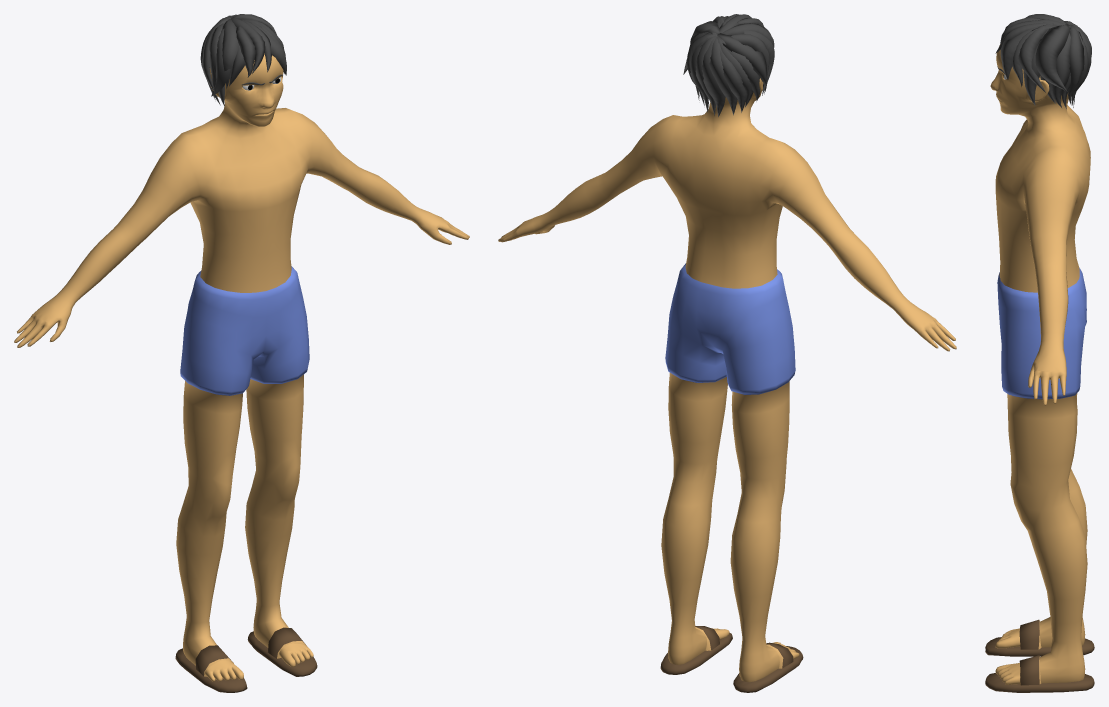
The model's file is Protagonist_Model.fbx.
The picture shows the model from 3 angles, left to right: view 1: azimuth 30°, elevation 25°; view 2: azimuth 150°, elevation 25°; view 3: azimuth 270°, elevation 25°; orthographic projection.
Parts seen in each view (by area): view 1: Protagonist, Hair; view 2: Protagonist, Hair; view 3: Protagonist, Hair.
Boxes of the visible parts, x1,y1,x2,y2 form: Protagonist: [14, 53, 469, 692]; Hair: [200, 14, 286, 106]; Protagonist: [498, 78, 956, 692]; Hair: [683, 14, 774, 116]; Protagonist: [985, 44, 1094, 692]; Hair: [995, 14, 1091, 108].
Bounding box in the file's own units: 99.78 × 135 × 20.69.
